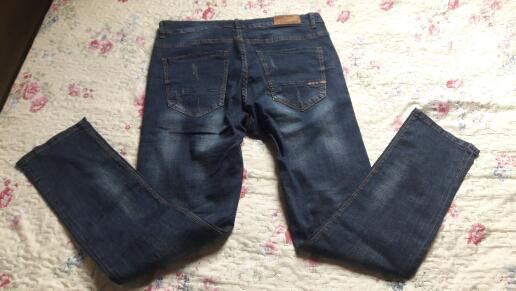jeans: (26, 12, 475, 282)
